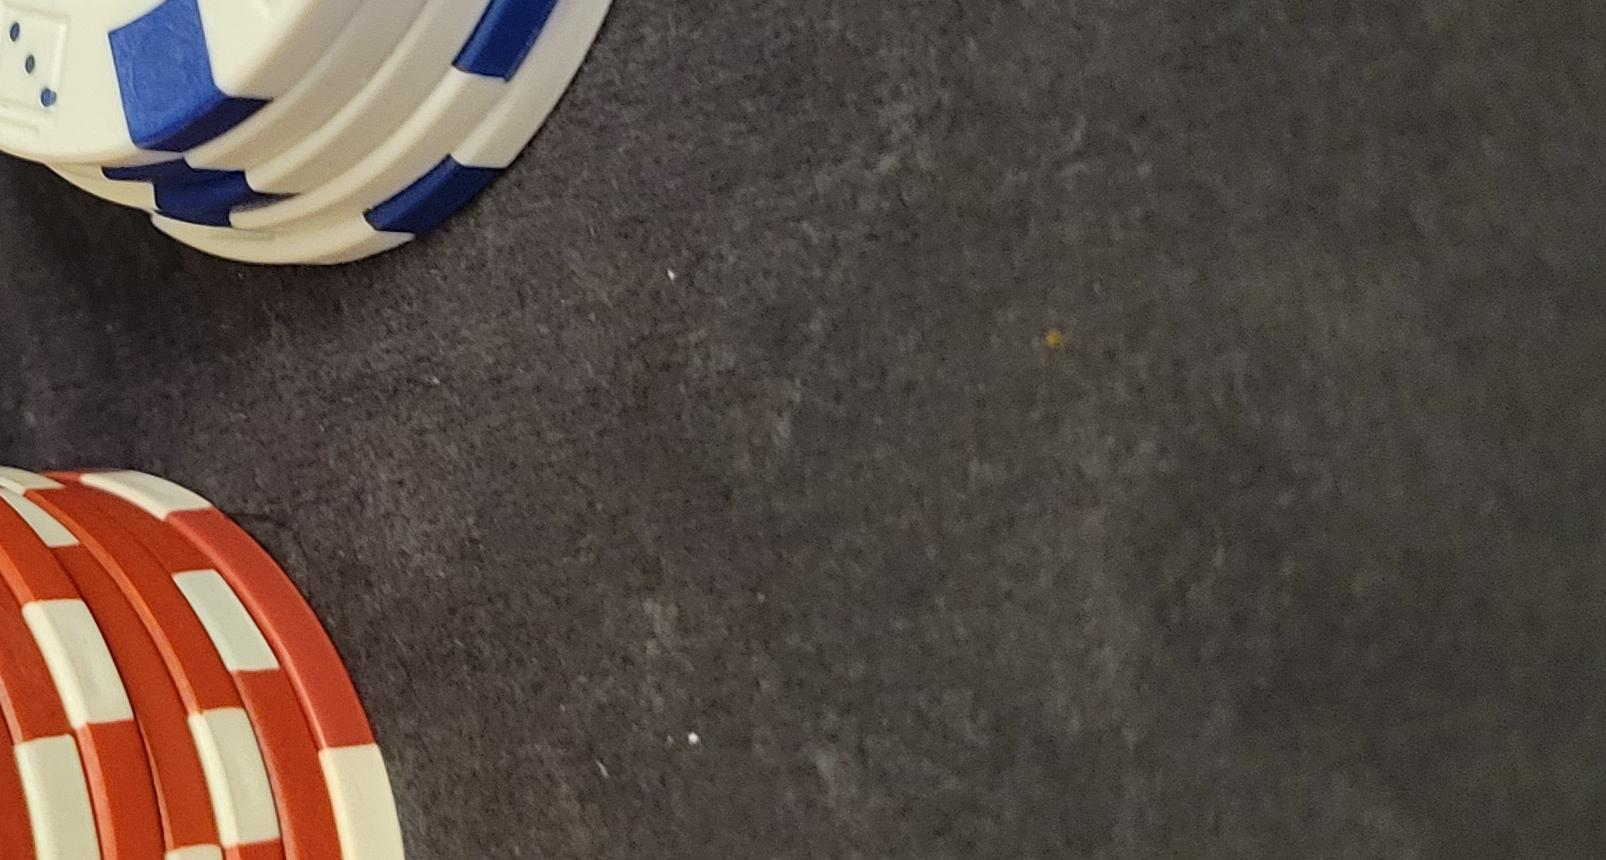Chip: (1, 406, 706, 860)
